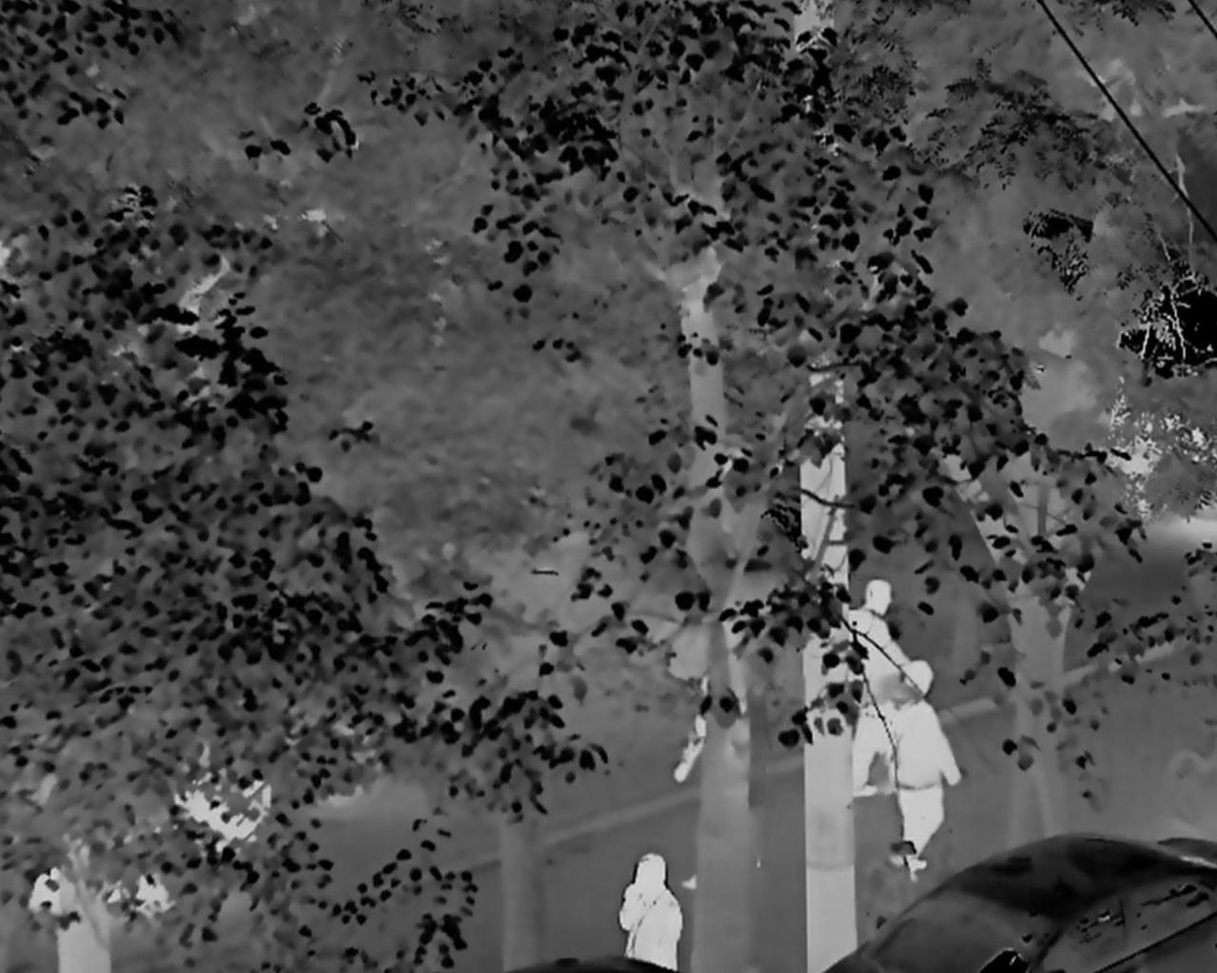person: (887, 659, 962, 875), (846, 575, 908, 797), (617, 853, 686, 972)
